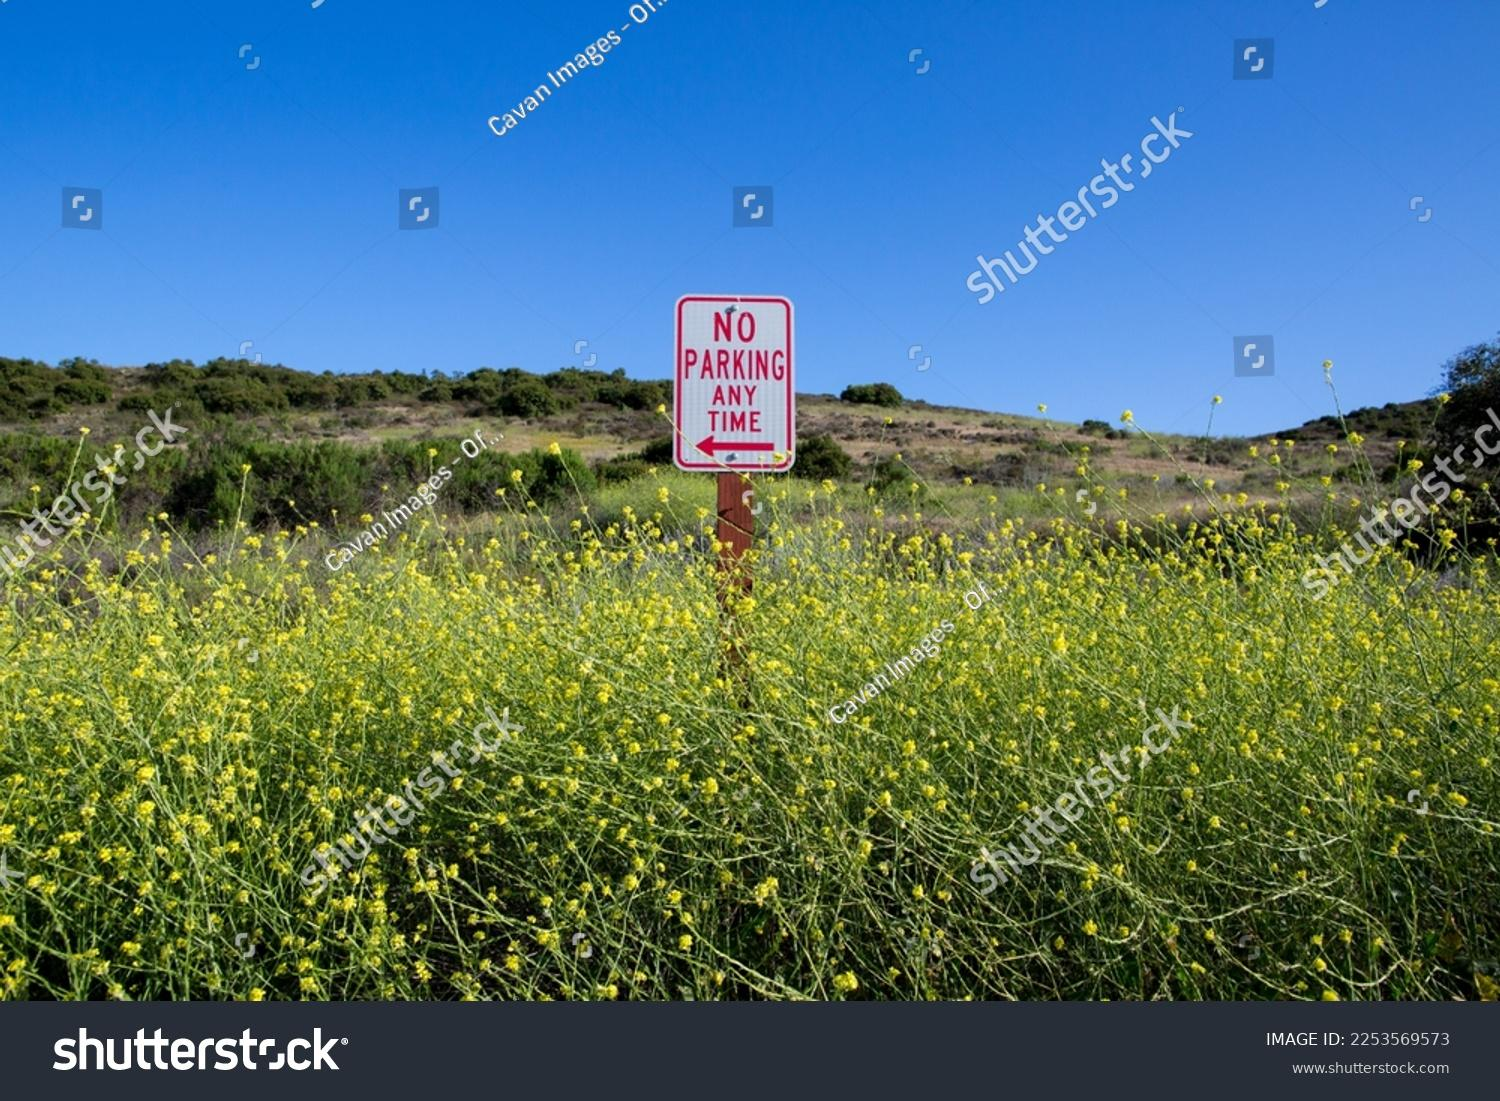No Parking: (678, 281, 799, 489)
